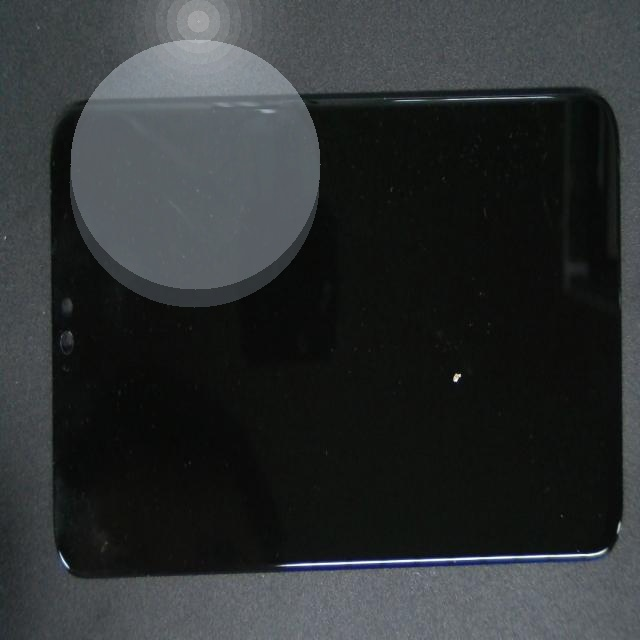stain: (245, 134, 640, 525)
